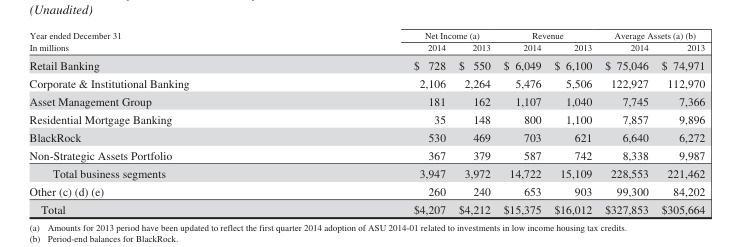table: (28, 29, 704, 215)
table column: (28, 29, 300, 215), (300, 29, 451, 215), (597, 29, 654, 215), (496, 29, 547, 215), (547, 29, 597, 215), (654, 29, 704, 215), (451, 29, 496, 215)
table column header: (28, 29, 704, 55)
table row: (28, 127, 704, 146), (28, 55, 704, 73), (28, 73, 704, 91), (28, 91, 704, 109), (28, 109, 704, 127), (28, 146, 704, 164), (28, 164, 704, 182), (28, 182, 704, 200), (28, 40, 704, 55), (28, 200, 704, 215), (28, 29, 704, 40)
table spanning cell: (28, 29, 300, 55), (300, 29, 496, 40), (597, 29, 704, 40), (496, 29, 597, 40)
